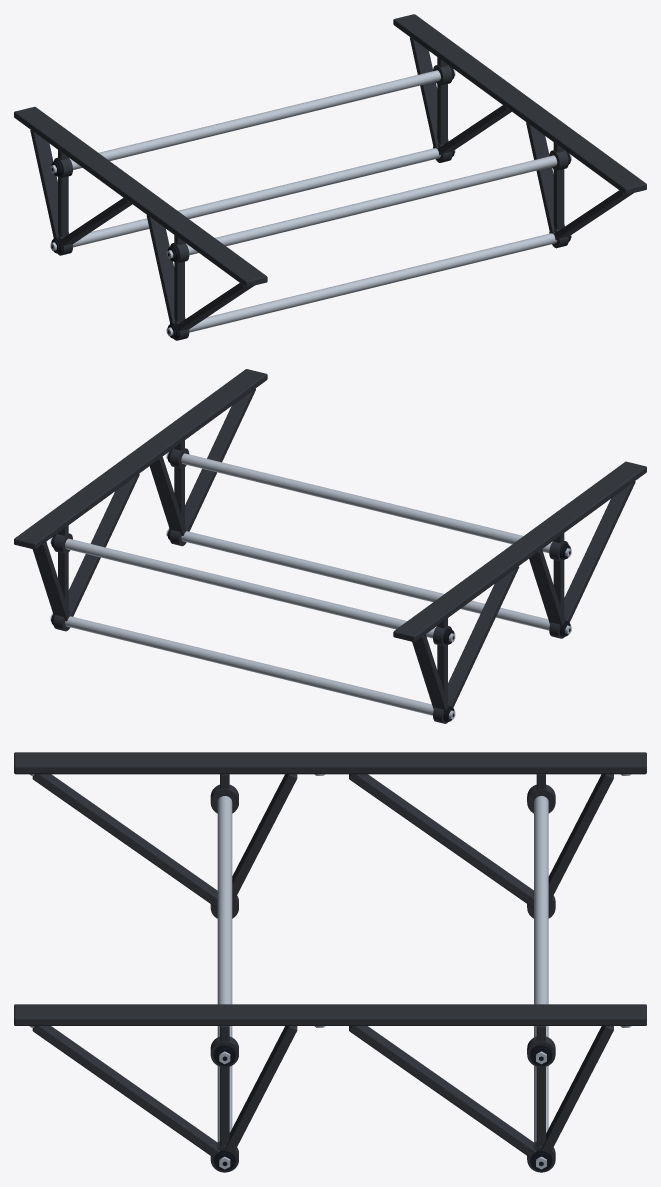
File: wall-filament-rack.glb
3 renders of one model, top to bottom at view 1: azimuth 30°, elevation 25°; view 2: azimuth 150°, elevation 25°; view 3: azimuth 270°, elevation 25°, orthographic. The views are drawn at different scales.
Parts seen in each view (by area): view 1: Rack_Powdercoat_Graphite, Rack_Satin_Steel, Rack_Black_Collars; view 2: Rack_Powdercoat_Graphite, Rack_Satin_Steel, Rack_Black_Collars; view 3: Rack_Powdercoat_Graphite, Rack_Satin_Steel, Rack_Black_Collars.
Boxes of the visible parts, x1,y1,x2,y2 form: Rack_Powdercoat_Graphite: (14,14,646,340); Rack_Satin_Steel: (50,69,571,336); Rack_Black_Collars: (51,66,570,338); Rack_Powdercoat_Graphite: (14,369,646,723); Rack_Satin_Steel: (50,452,571,719); Rack_Black_Collars: (51,449,570,721); Rack_Powdercoat_Graphite: (14,752,646,1172); Rack_Satin_Steel: (29,774,631,1169); Rack_Black_Collars: (32,1026,628,1171).
Bounding box in the file's own units: 1.19 × 0.332 × 1.2.
